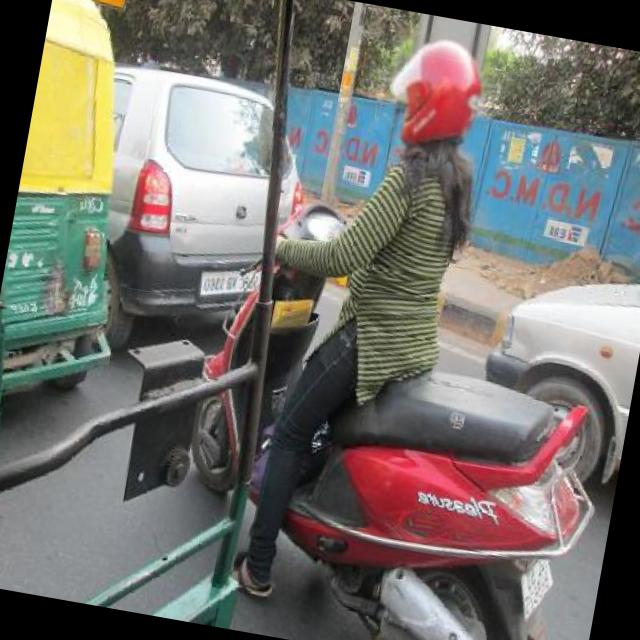With Helmet: (378, 28, 492, 158)
